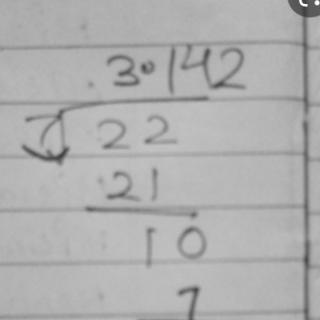.: (139, 57, 156, 78)
1: (165, 44, 177, 97)
2: (88, 113, 133, 152), (144, 109, 178, 149)
3: (104, 48, 143, 90)
4: (180, 40, 213, 89)
7: (172, 278, 206, 320)
